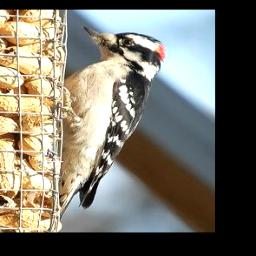Woodpecker: (52, 27, 167, 217)
